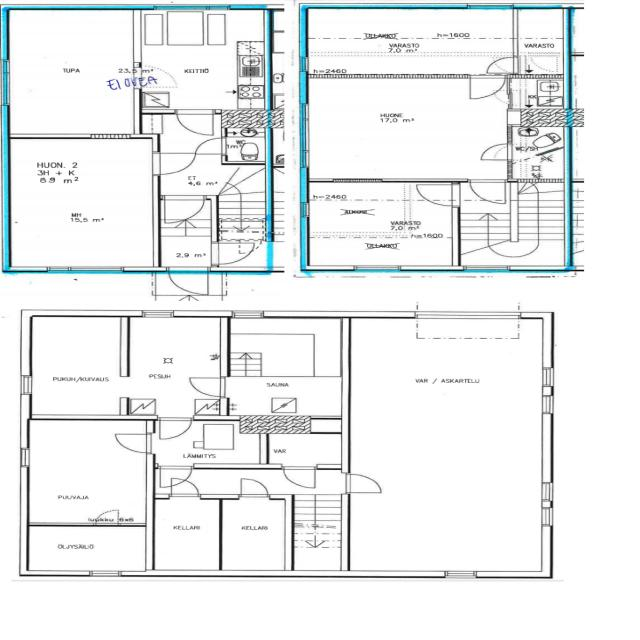door: (166, 266, 208, 297), (164, 196, 204, 224), (176, 109, 213, 136), (157, 415, 193, 442), (469, 179, 506, 205), (211, 242, 254, 264), (184, 377, 229, 398), (282, 464, 317, 490), (152, 153, 195, 174), (416, 185, 459, 206), (340, 473, 384, 493), (114, 434, 154, 454), (470, 75, 504, 98), (159, 464, 191, 488), (240, 476, 270, 499), (171, 478, 197, 499), (195, 138, 227, 154), (486, 57, 518, 73), (482, 144, 513, 160)
